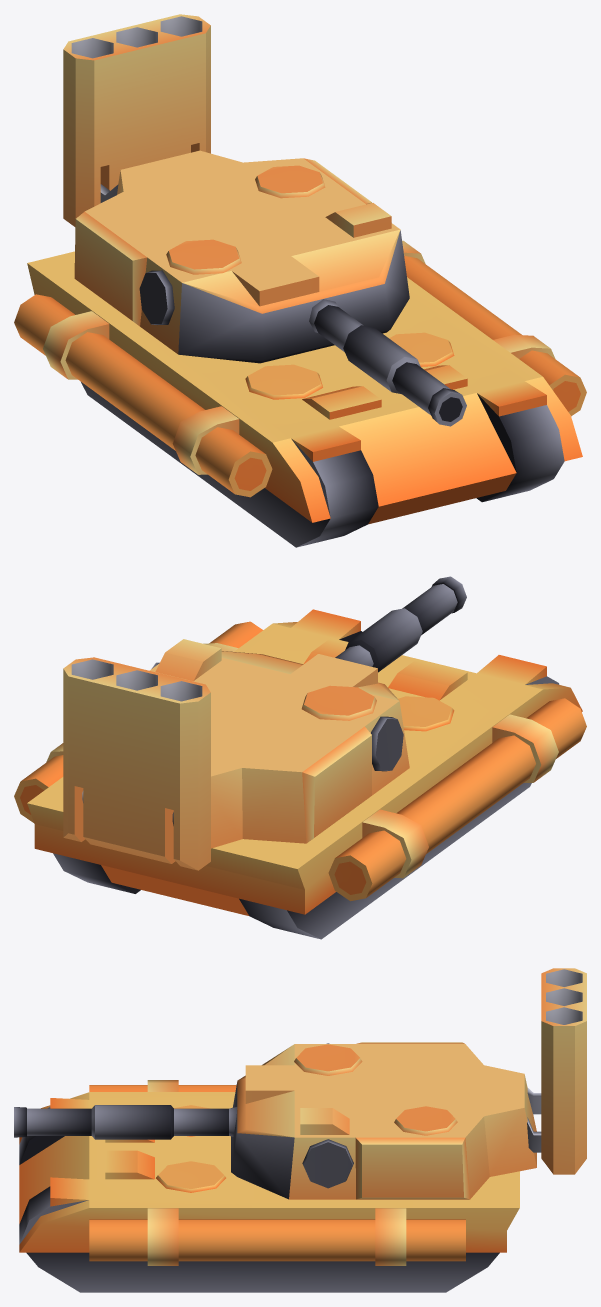
File: Tank_m1.fbx
3 views of the same model, one above another, from view 1: azimuth 30°, elevation 25°; view 2: azimuth 150°, elevation 25°; view 3: azimuth 270°, elevation 25° (orthographic). The views are drawn at different scales.
Visible parts, largest first — view 1: Tank_base, Tank_T, Rocket_L, Barrels; view 2: Tank_base, Tank_T, Rocket_L, Barrels; view 3: Tank_T, Tank_base, Barrels, Rocket_L, Rocket_L_base.
Part boxes in pixels (x1,y1,x2,y2): Tank_base: (27,251,582,547); Tank_T: (74,150,466,426); Rocket_L: (63,14,210,226); Barrels: (14,240,586,497); Tank_base: (27,609,582,939); Tank_T: (149,576,466,848); Rocket_L: (63,657,210,870); Barrels: (14,621,586,901); Tank_T: (14,1042,536,1199); Tank_base: (19,1092,519,1292); Barrels: (89,1080,465,1265); Rocket_L: (541,968,586,1174); Rocket_L_base: (527,1088,541,1152).
Bounding box in the file's own units: 268 × 194 × 411.
1 material, 1 textured.
